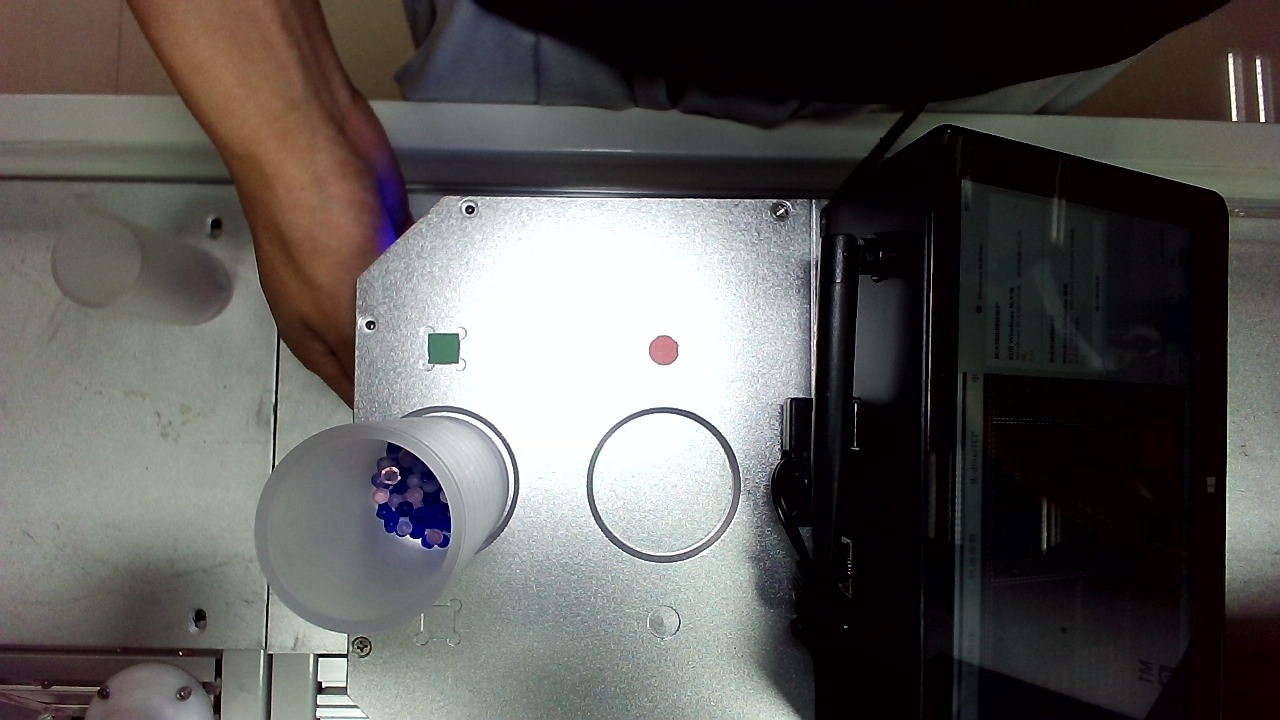bad: (254, 611, 307, 655), (259, 16, 305, 60), (782, 16, 825, 63), (583, 297, 628, 340), (630, 637, 671, 680), (468, 644, 508, 688), (755, 364, 796, 405), (816, 492, 856, 534), (258, 288, 298, 329), (794, 77, 830, 122), (519, 246, 559, 285), (821, 452, 860, 492), (345, 1, 384, 40), (850, 517, 888, 557), (257, 332, 297, 369), (836, 49, 876, 86), (269, 205, 313, 238), (260, 168, 299, 205), (773, 218, 812, 254), (570, 435, 604, 473), (436, 43, 472, 78), (832, 194, 872, 224), (806, 52, 840, 85)
defact: (681, 145, 715, 182)
pass: (567, 147, 615, 197), (582, 401, 626, 445), (261, 526, 304, 569), (818, 542, 863, 582), (263, 408, 306, 449), (287, 568, 330, 609), (515, 391, 554, 435), (389, 482, 430, 523), (806, 395, 848, 435), (716, 573, 754, 616), (848, 482, 891, 518), (687, 100, 726, 139), (566, 609, 604, 649), (853, 556, 895, 592), (678, 42, 710, 82)
toolong: (633, 441, 697, 498), (804, 301, 855, 350), (343, 39, 381, 103)
unpass: (830, 4, 874, 53), (611, 576, 655, 619), (798, 204, 844, 245), (408, 273, 448, 319), (277, 364, 319, 404), (640, 13, 677, 57), (308, 6, 346, 46), (403, 55, 440, 95), (822, 159, 864, 194), (685, 568, 721, 607), (712, 164, 748, 203), (748, 429, 788, 464), (690, 9, 727, 46), (697, 269, 735, 305), (845, 323, 883, 358), (737, 227, 770, 265), (829, 371, 863, 405), (852, 441, 888, 472), (777, 54, 808, 88)
